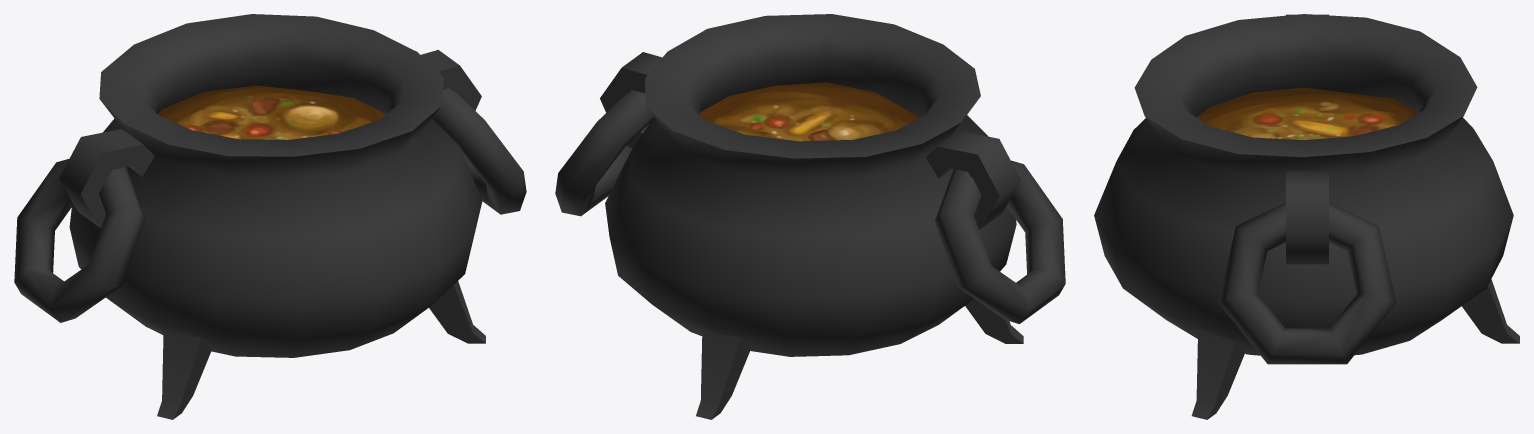
Rendered from SM_PROP_cookingpot_big.FBX.
3 renders of one model, left to right at view 1: azimuth 30°, elevation 25°; view 2: azimuth 150°, elevation 25°; view 3: azimuth 270°, elevation 25°, orthographic.
Visible parts, largest first — view 1: SM_PROP_cookingpot_big; view 2: SM_PROP_cookingpot_big; view 3: SM_PROP_cookingpot_big.
Part boxes in pixels (box(x1,y1,x2,y2)): SM_PROP_cookingpot_big: box(14, 14, 526, 419); SM_PROP_cookingpot_big: box(555, 14, 1065, 419); SM_PROP_cookingpot_big: box(1094, 14, 1519, 419).
Bounding box in the file's own units: 161 × 125 × 82.17.
